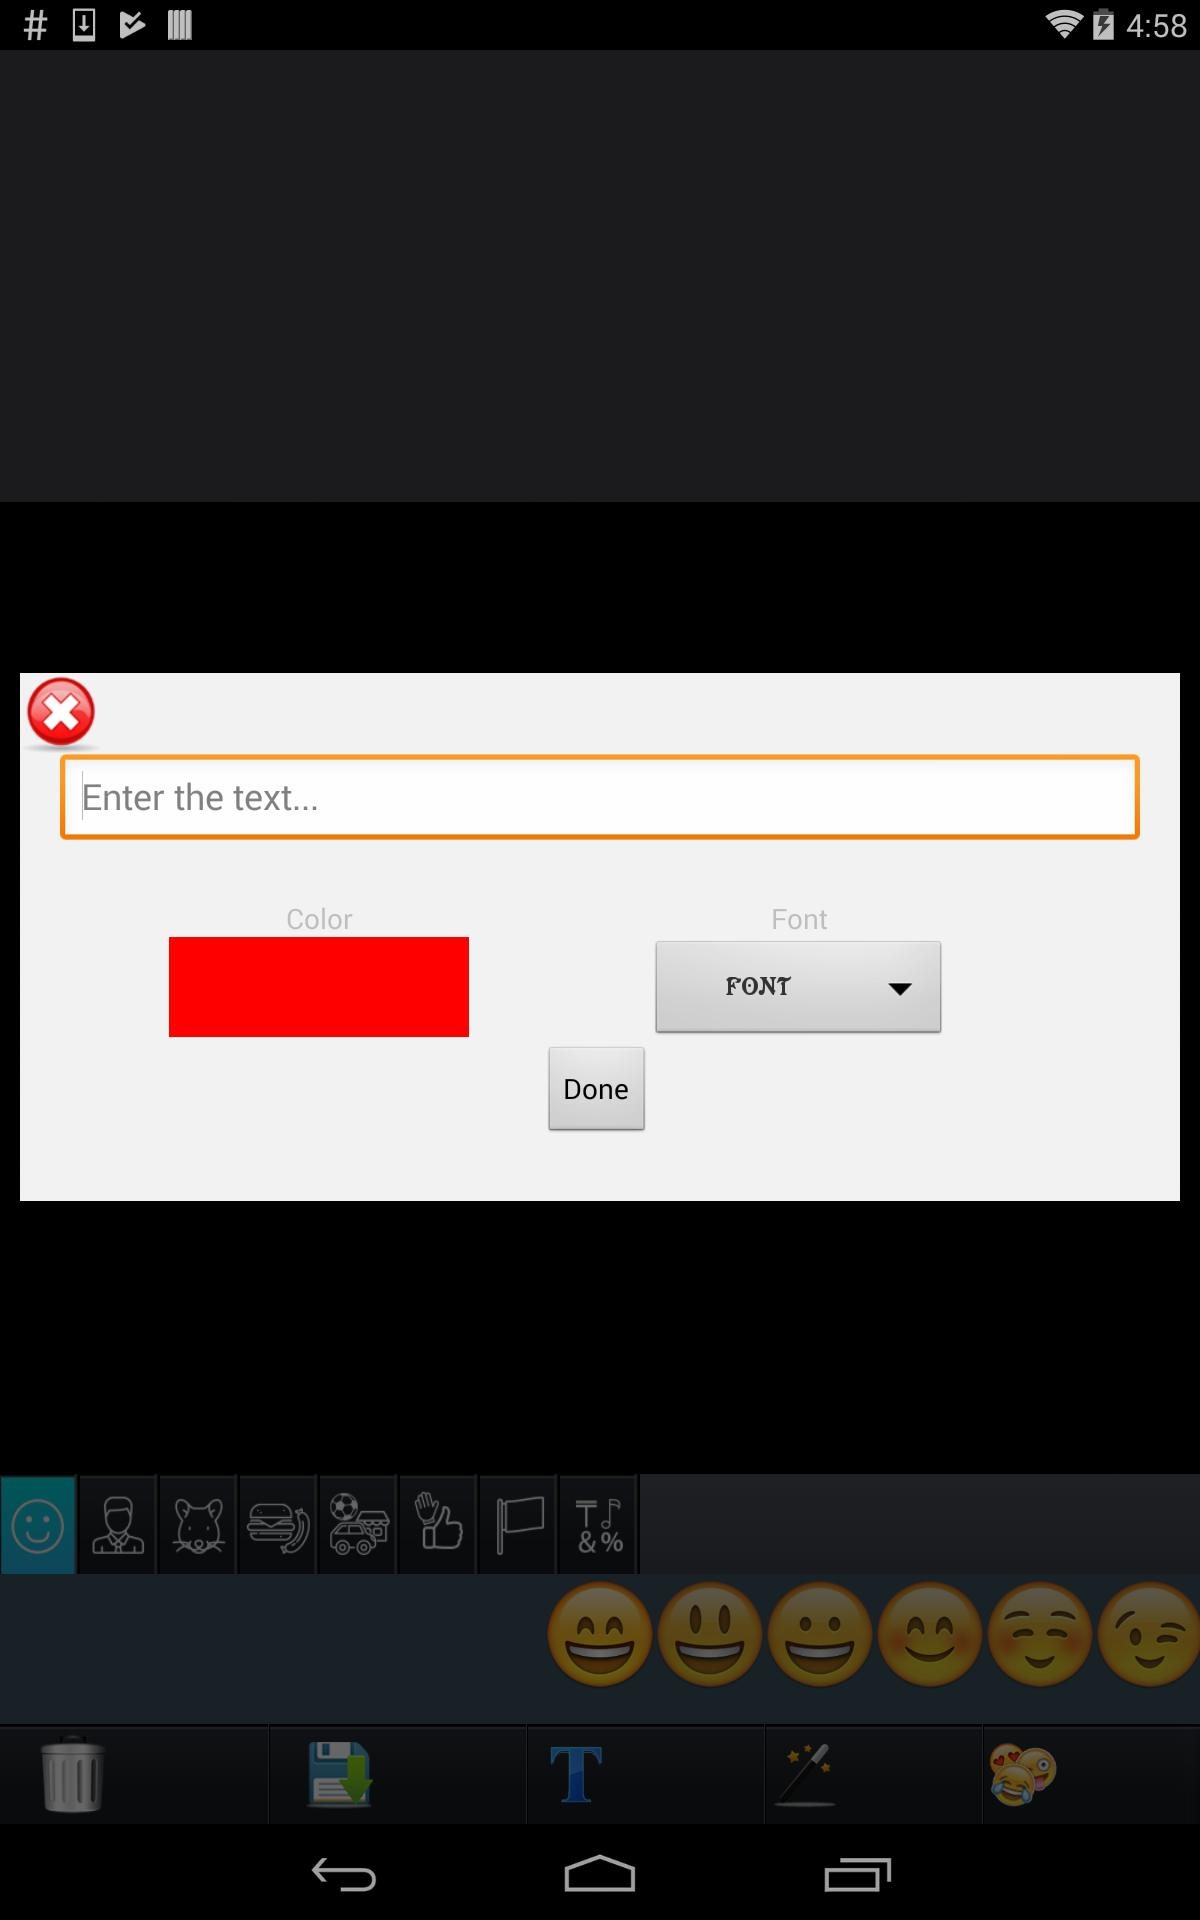android.widget.Button: (542, 1045, 653, 1140), (19, 673, 100, 753)
android.widget.EditText: (59, 753, 1141, 849)
android.widget.FrameLayout: (19, 673, 1181, 1201)
android.widget.ImageButton: (169, 937, 469, 1037)
android.widget.LinearLayout: (120, 849, 1080, 1161), (120, 889, 1080, 1045), (120, 1045, 1080, 1140), (529, 898, 1070, 1045), (124, 898, 514, 1037)
android.widget.RelativeLayout: (19, 673, 1181, 1201)
android.widget.Spinner: (650, 937, 948, 1045)
android.widget.TextView: (705, 951, 812, 1022), (286, 898, 353, 937), (771, 898, 828, 937)
